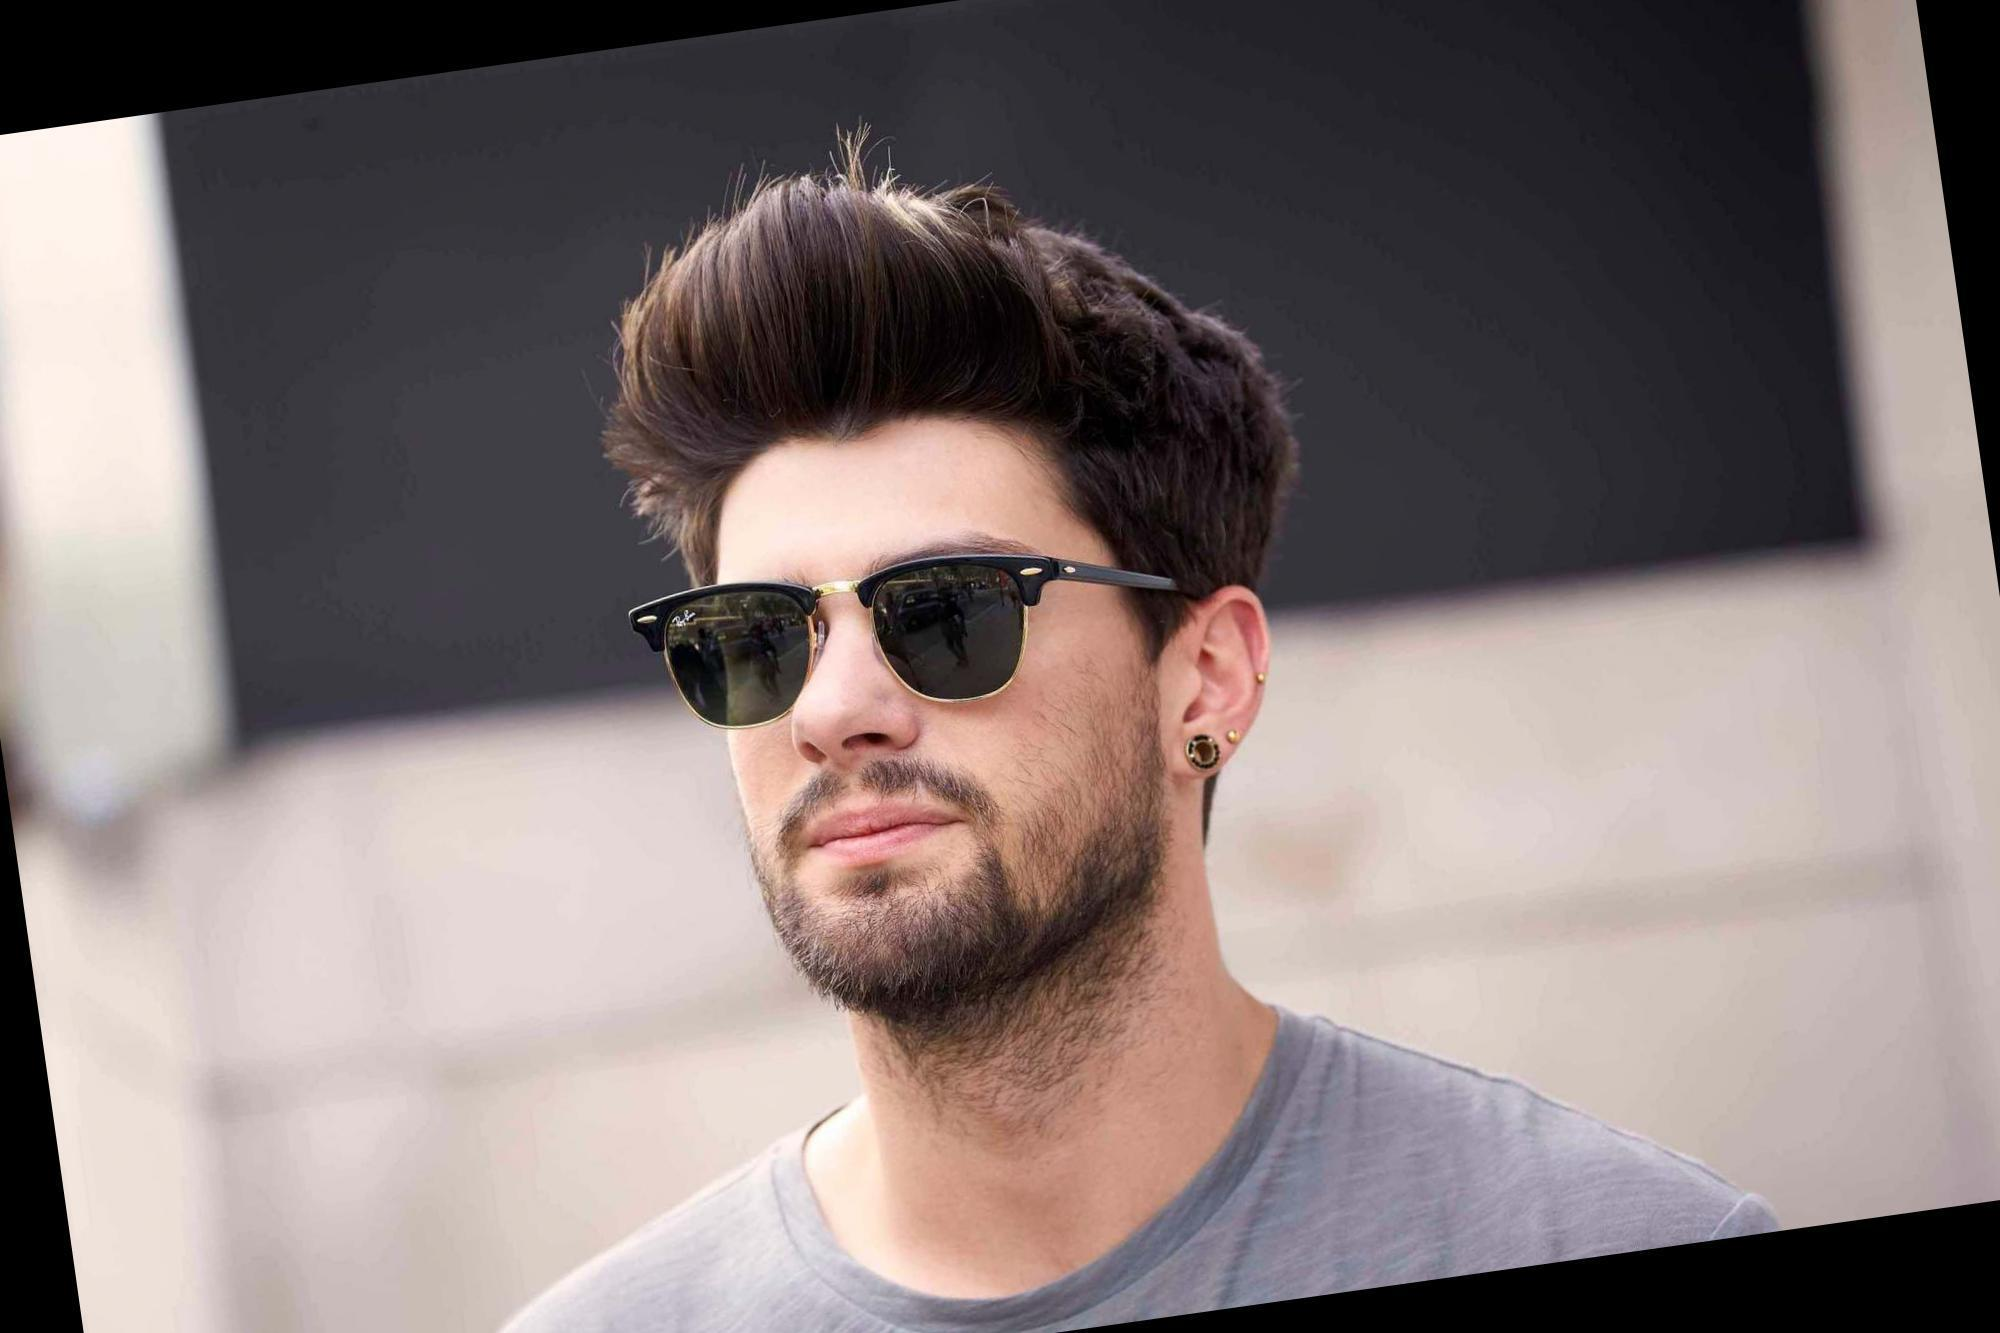Sober: (715, 478, 1149, 969)
